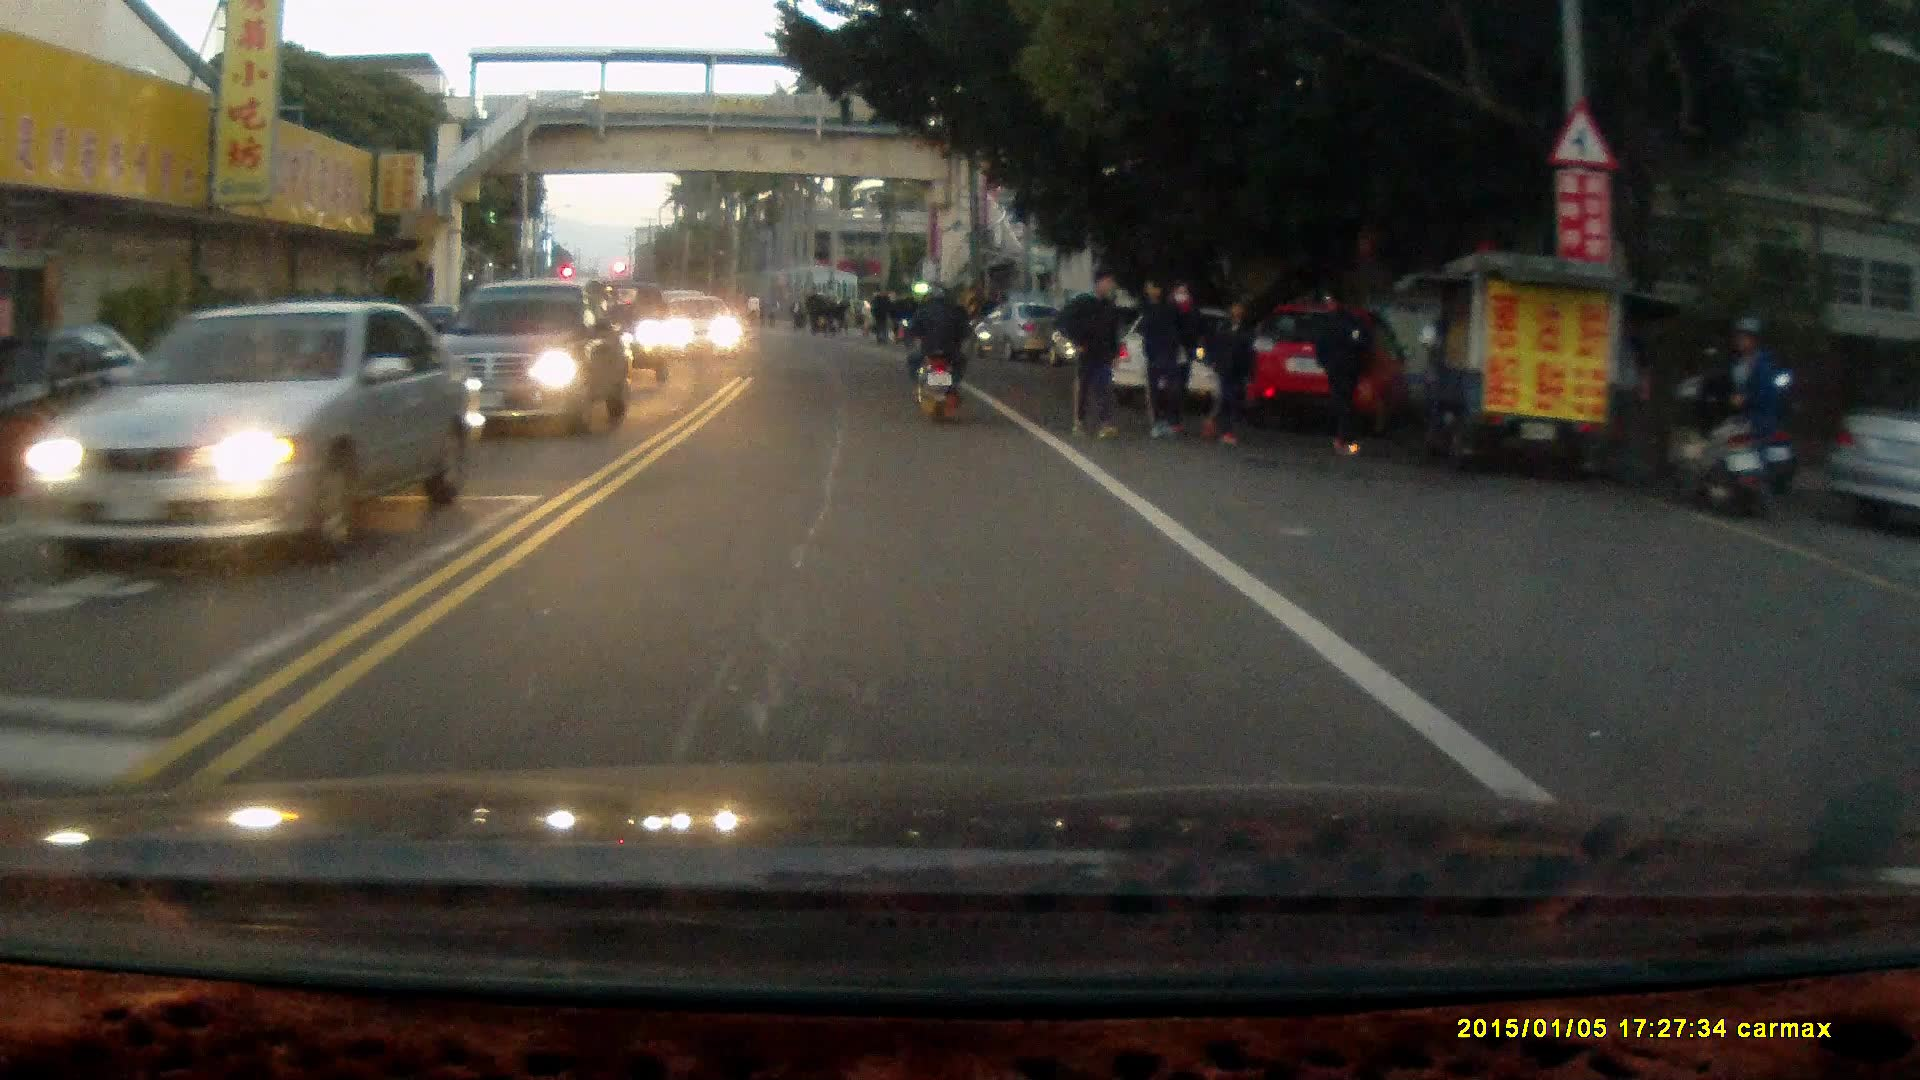pedestrian: (1058, 263, 1126, 444), (1734, 295, 1796, 491), (1307, 285, 1374, 451), (1201, 292, 1263, 449), (1135, 277, 1187, 443)
rider: (899, 277, 973, 428)
vehicle: (30, 299, 472, 560), (441, 277, 631, 433), (1, 329, 172, 492), (1233, 297, 1407, 427), (1104, 302, 1295, 419), (662, 296, 749, 363), (981, 302, 1063, 363)
